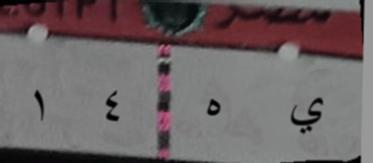1: (28, 80, 52, 131)
4: (99, 84, 128, 135)
haa: (198, 94, 229, 127)
yaa: (283, 85, 328, 148)
